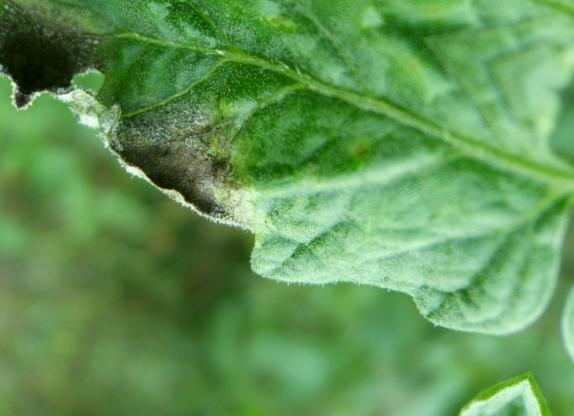Tomato leaf late blight: (0, 0, 574, 398)
